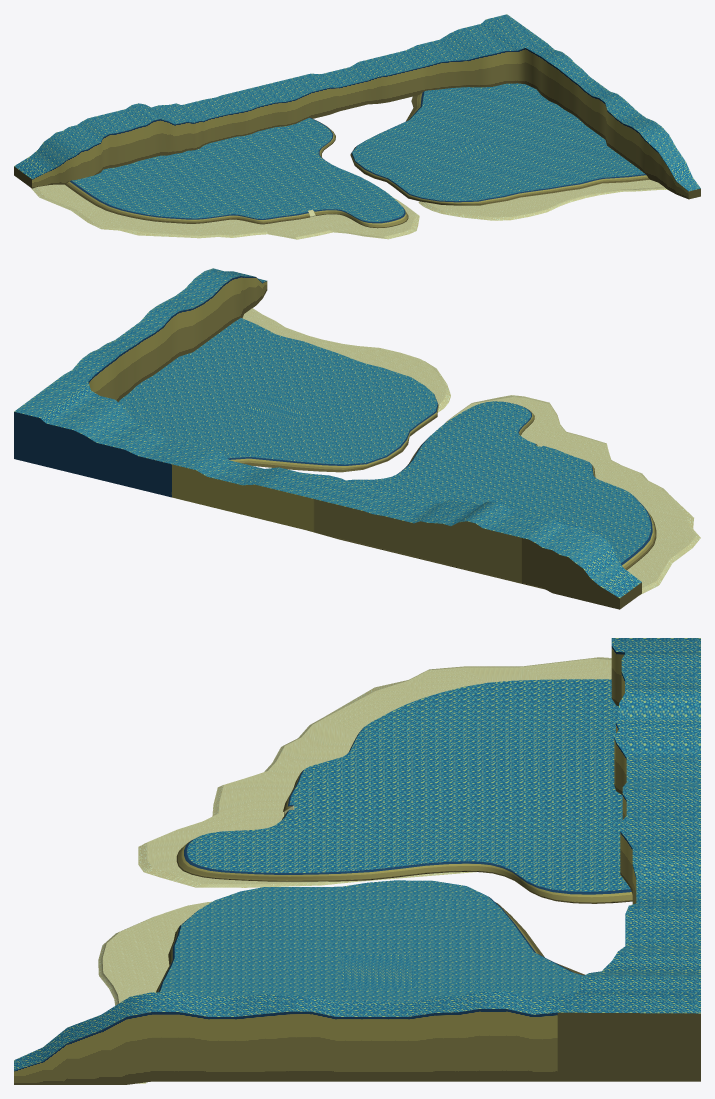
The model's file is Main_Ground.fbx.
3 views of the same model, one above another, from view 1: azimuth 30°, elevation 25°; view 2: azimuth 150°, elevation 25°; view 3: azimuth 270°, elevation 25° (orthographic). The views are drawn at different scales.
Parts seen in each view (by area): view 1: pCube256, polySurface96, polySurface95, polySurface35, polySurface34; view 2: pCube256, polySurface96, polySurface95, polySurface35, polySurface34; view 3: pCube256, polySurface95, polySurface96, polySurface35, polySurface34.
Part boxes in pixels (bbox=[...]): pCube256: bbox=[14, 14, 700, 199]; polySurface96: bbox=[350, 83, 649, 205]; polySurface95: bbox=[65, 117, 408, 228]; polySurface35: bbox=[30, 184, 419, 239]; polySurface34: bbox=[418, 179, 667, 220]; pCube256: bbox=[14, 268, 641, 609]; polySurface96: bbox=[118, 318, 438, 472]; polySurface95: bbox=[310, 401, 656, 589]; polySurface35: bbox=[445, 395, 700, 595]; polySurface34: bbox=[242, 308, 450, 412]; pCube256: bbox=[14, 638, 700, 1084]; polySurface95: bbox=[176, 679, 632, 903]; polySurface96: bbox=[156, 880, 584, 1002]; polySurface35: bbox=[138, 657, 611, 887]; polySurface34: bbox=[98, 901, 211, 1083].
Bounding box in the file's own units: 337 × 28.89 × 228.
4 materials, 3 textured.
